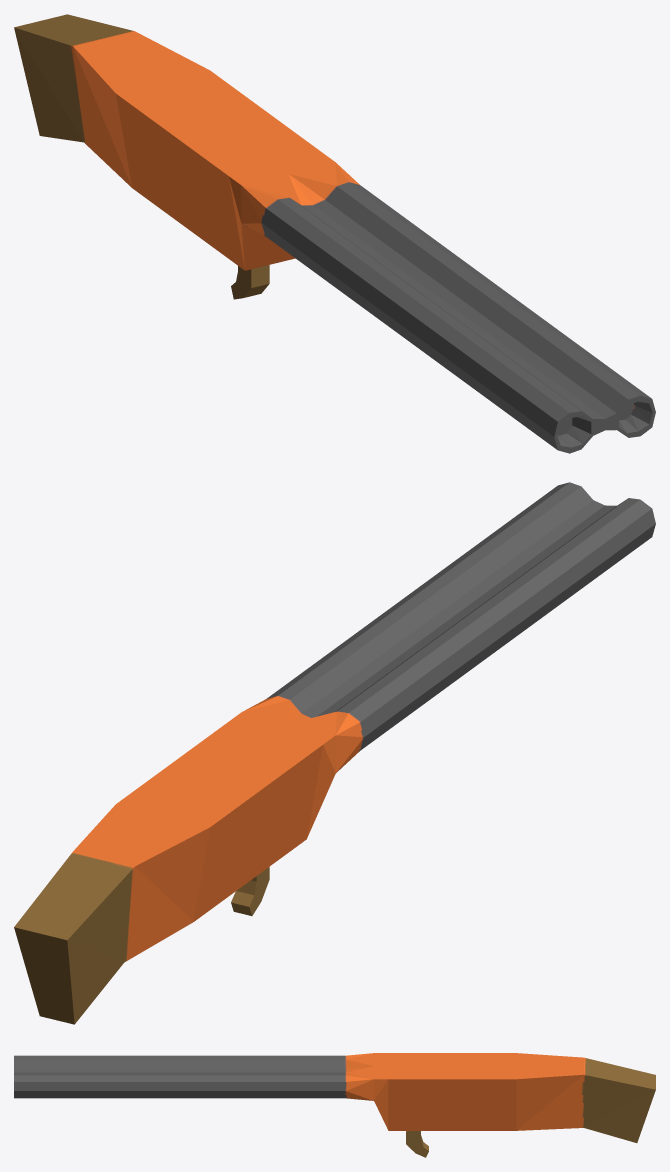
Rendered from shotgun.obj.
3 views of the same model, one above another, from view 1: azimuth 30°, elevation 25°; view 2: azimuth 150°, elevation 25°; view 3: azimuth 270°, elevation 25° (orthographic). The views are drawn at different scales.
Visible parts, largest first — view 1: Cube; view 2: Cube; view 3: Cube.
Boxes of the visible parts, x1=… form: Cube: x1=14, y1=14, x2=655, y2=453; Cube: x1=14, y1=482, x2=655, y2=1024; Cube: x1=14, y1=1053, x2=655, y2=1157.
Bounding box in the file's own units: 0.1035 × 0.1536 × 0.9944.
Materials: 1 (1 with a texture image).
